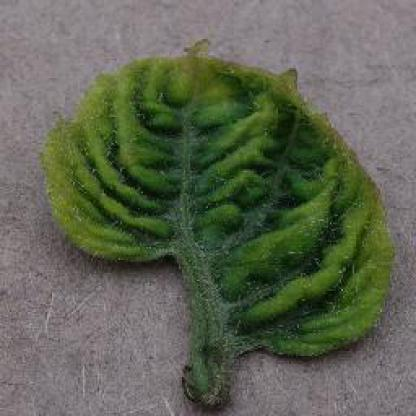bad leaf: (80, 86, 378, 352)
